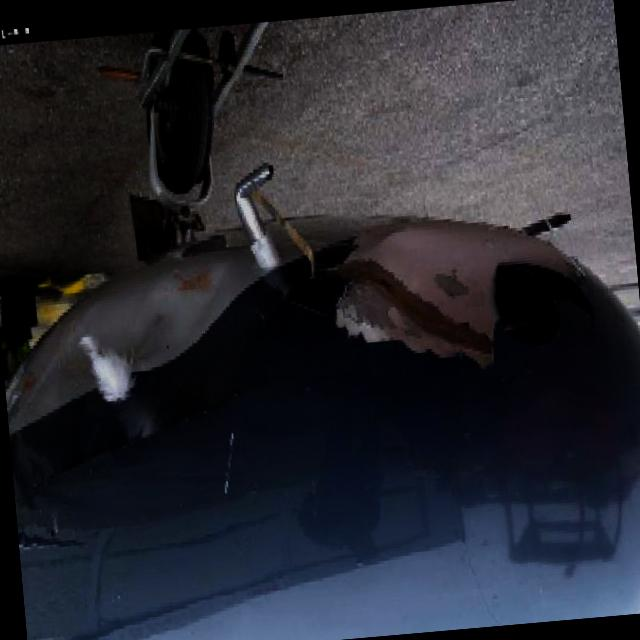crack: (494, 263, 592, 349), (486, 358, 538, 390)
dent: (4, 256, 256, 508), (124, 258, 236, 358)
